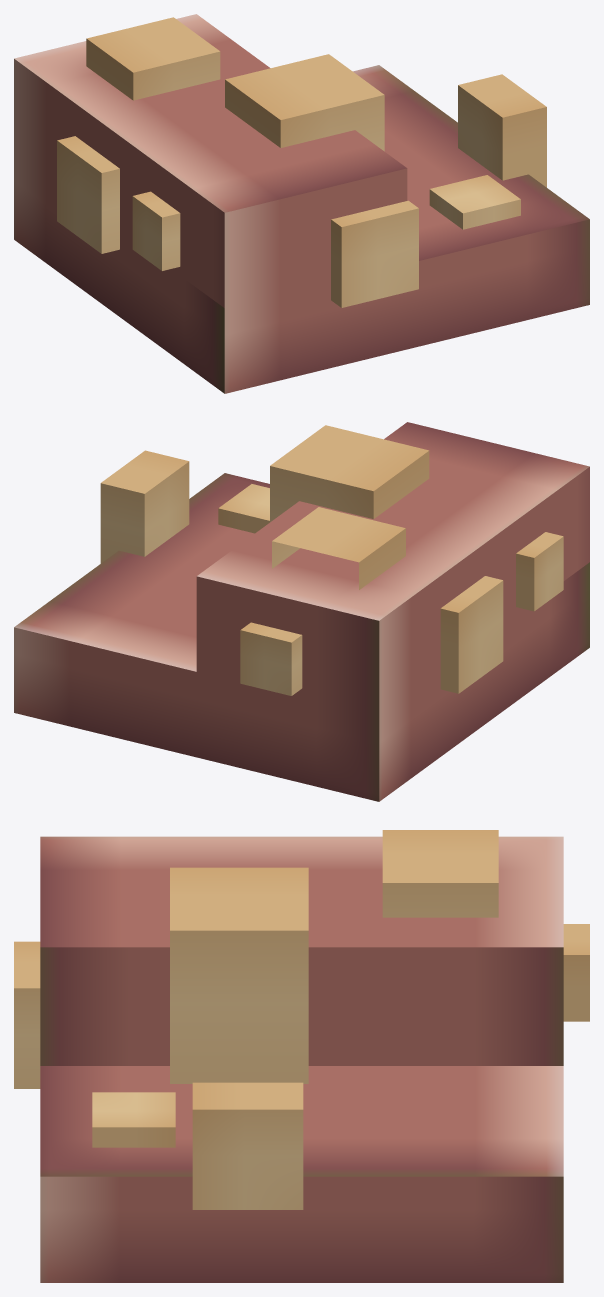
The model's file is Block_Destroy_Step4.fbx.
3 renders of one model, top to bottom at view 1: azimuth 30°, elevation 25°; view 2: azimuth 150°, elevation 25°; view 3: azimuth 270°, elevation 25°, orthographic. The views are drawn at different scales.
Visible parts, largest first — view 1: Block_Destroy_Step4; view 2: Block_Destroy_Step4; view 3: Block_Destroy_Step4.
Part boxes in pixels (box(x1,y1,x2,y2)): Block_Destroy_Step4: box(14, 14, 589, 393); Block_Destroy_Step4: box(14, 422, 589, 801); Block_Destroy_Step4: box(14, 830, 589, 1282).
Size of the model in its own units: 27.5 by 15.69 by 27.5.
1 material, 1 textured.
